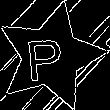P_N: (30, 30, 72, 83)
